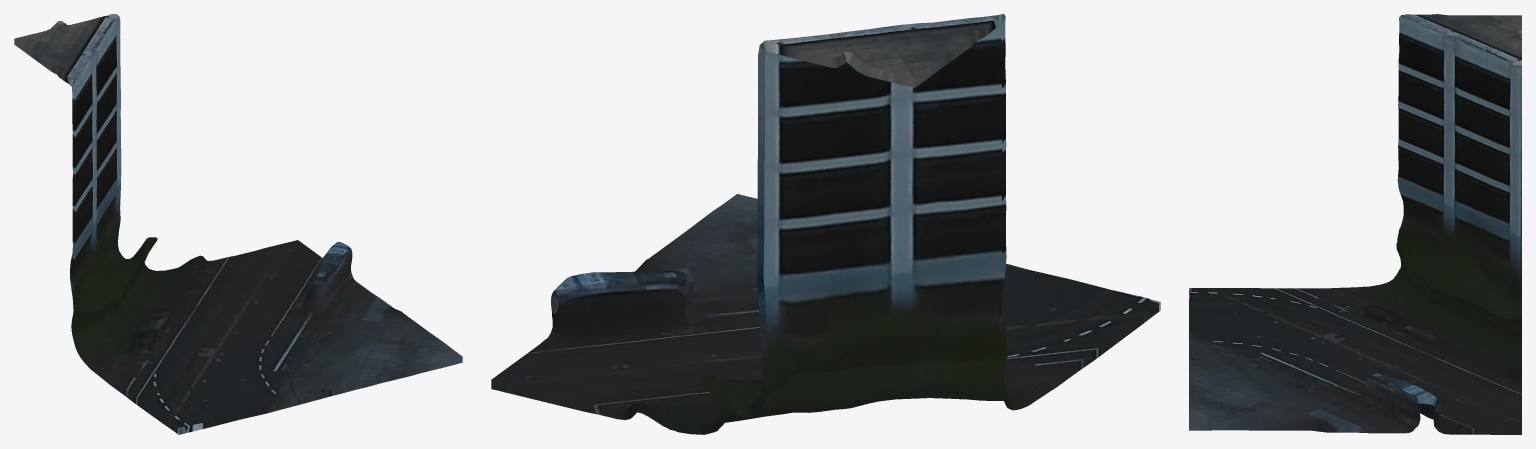
File: z20-167789-405226-h0-yup-uvflip-v3-world.glb
3 renders of one model, left to right at view 1: azimuth 30°, elevation 25°; view 2: azimuth 150°, elevation 25°; view 3: azimuth 270°, elevation 25°, orthographic. The views are drawn at different scales.
Bounding box in the file's own units: 30.16 × 28.8 × 30.32.
1 material, 1 textured.
